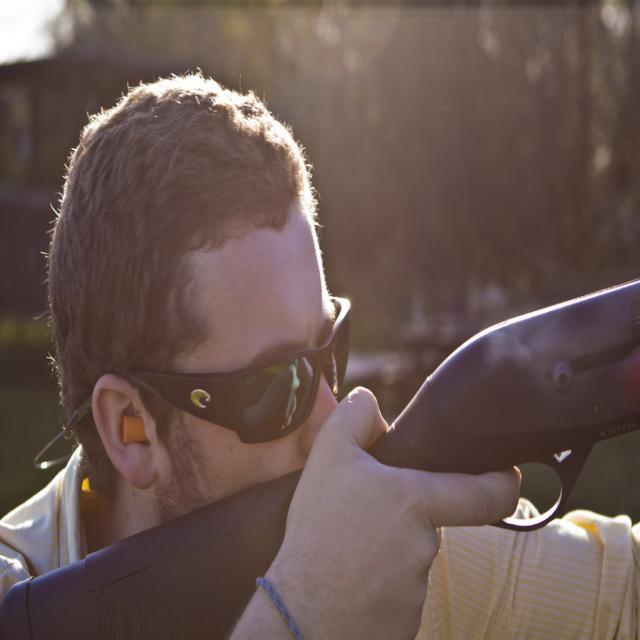weapon: (0, 274, 640, 640)
